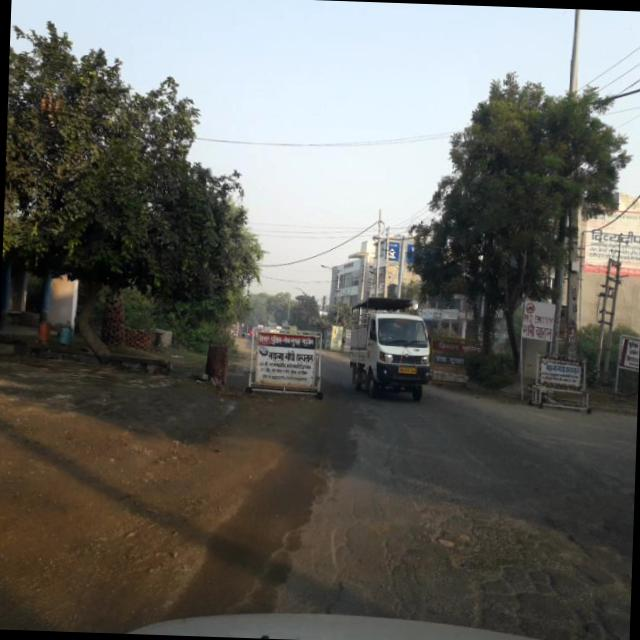crack: (368, 470, 634, 636)
